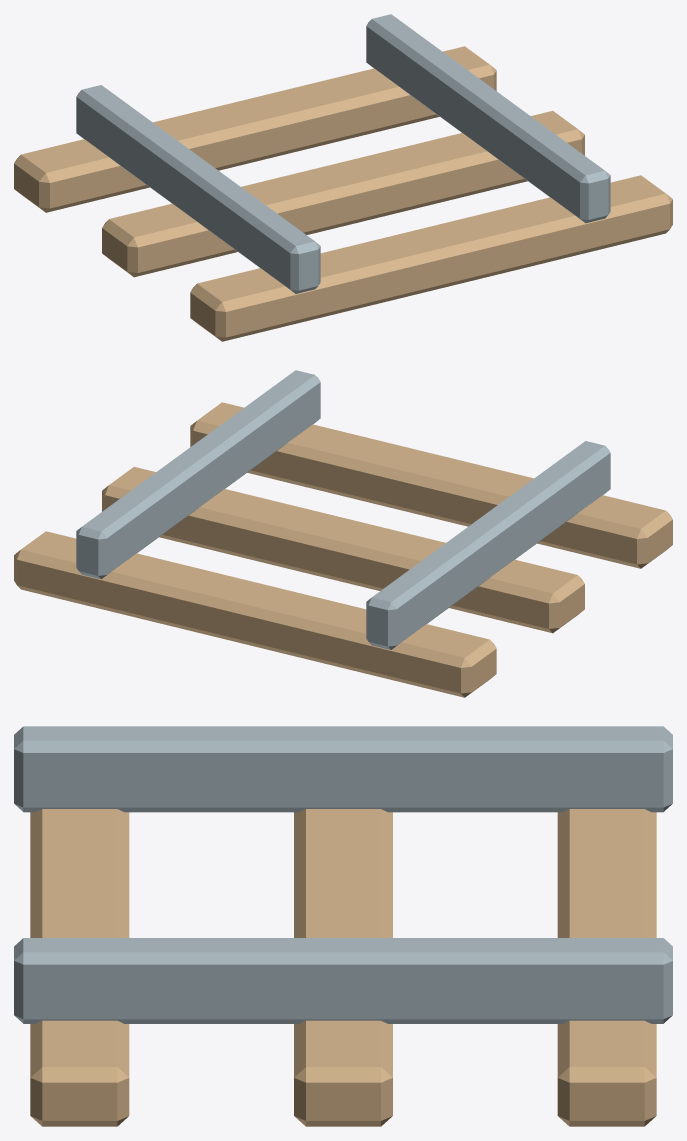
Rendered from rail.fbx.
3 renders of one model, top to bottom at view 1: azimuth 30°, elevation 25°; view 2: azimuth 150°, elevation 25°; view 3: azimuth 270°, elevation 25°, orthographic. The views are drawn at different scales.
Parts seen in each view (by area): view 1: rail_mesh; view 2: rail_mesh; view 3: rail_mesh.
Part boxes in pixels (x1,y1,x2,y2): rail_mesh: [14, 14, 672, 341]; rail_mesh: [14, 370, 672, 697]; rail_mesh: [14, 726, 672, 1126].
Bounding box in the file's own units: 1.2 × 0.21 × 1.
